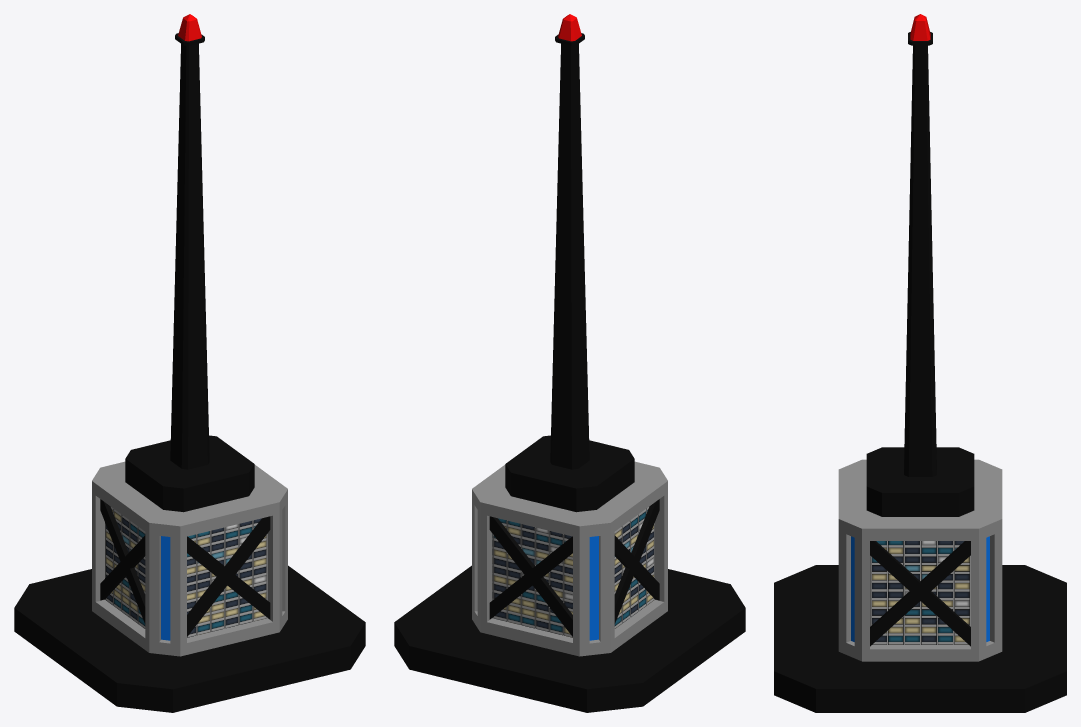
Rendered from SM_BuildingAntenna.FBX.
3 views of the same model, side by side, from view 1: azimuth 30°, elevation 25°; view 2: azimuth 150°, elevation 25°; view 3: azimuth 270°, elevation 25° (orthographic).
Parts seen in each view (by area): view 1: Box002; view 2: Box002; view 3: Box002.
Boxes of the visible parts, x1,y1,x2,y2 form: Box002: [14, 14, 365, 712]; Box002: [394, 14, 745, 712]; Box002: [774, 14, 1066, 712].
Size of the model in its own units: 4400 by 10558 by 4400.
5 materials, 1 textured.
